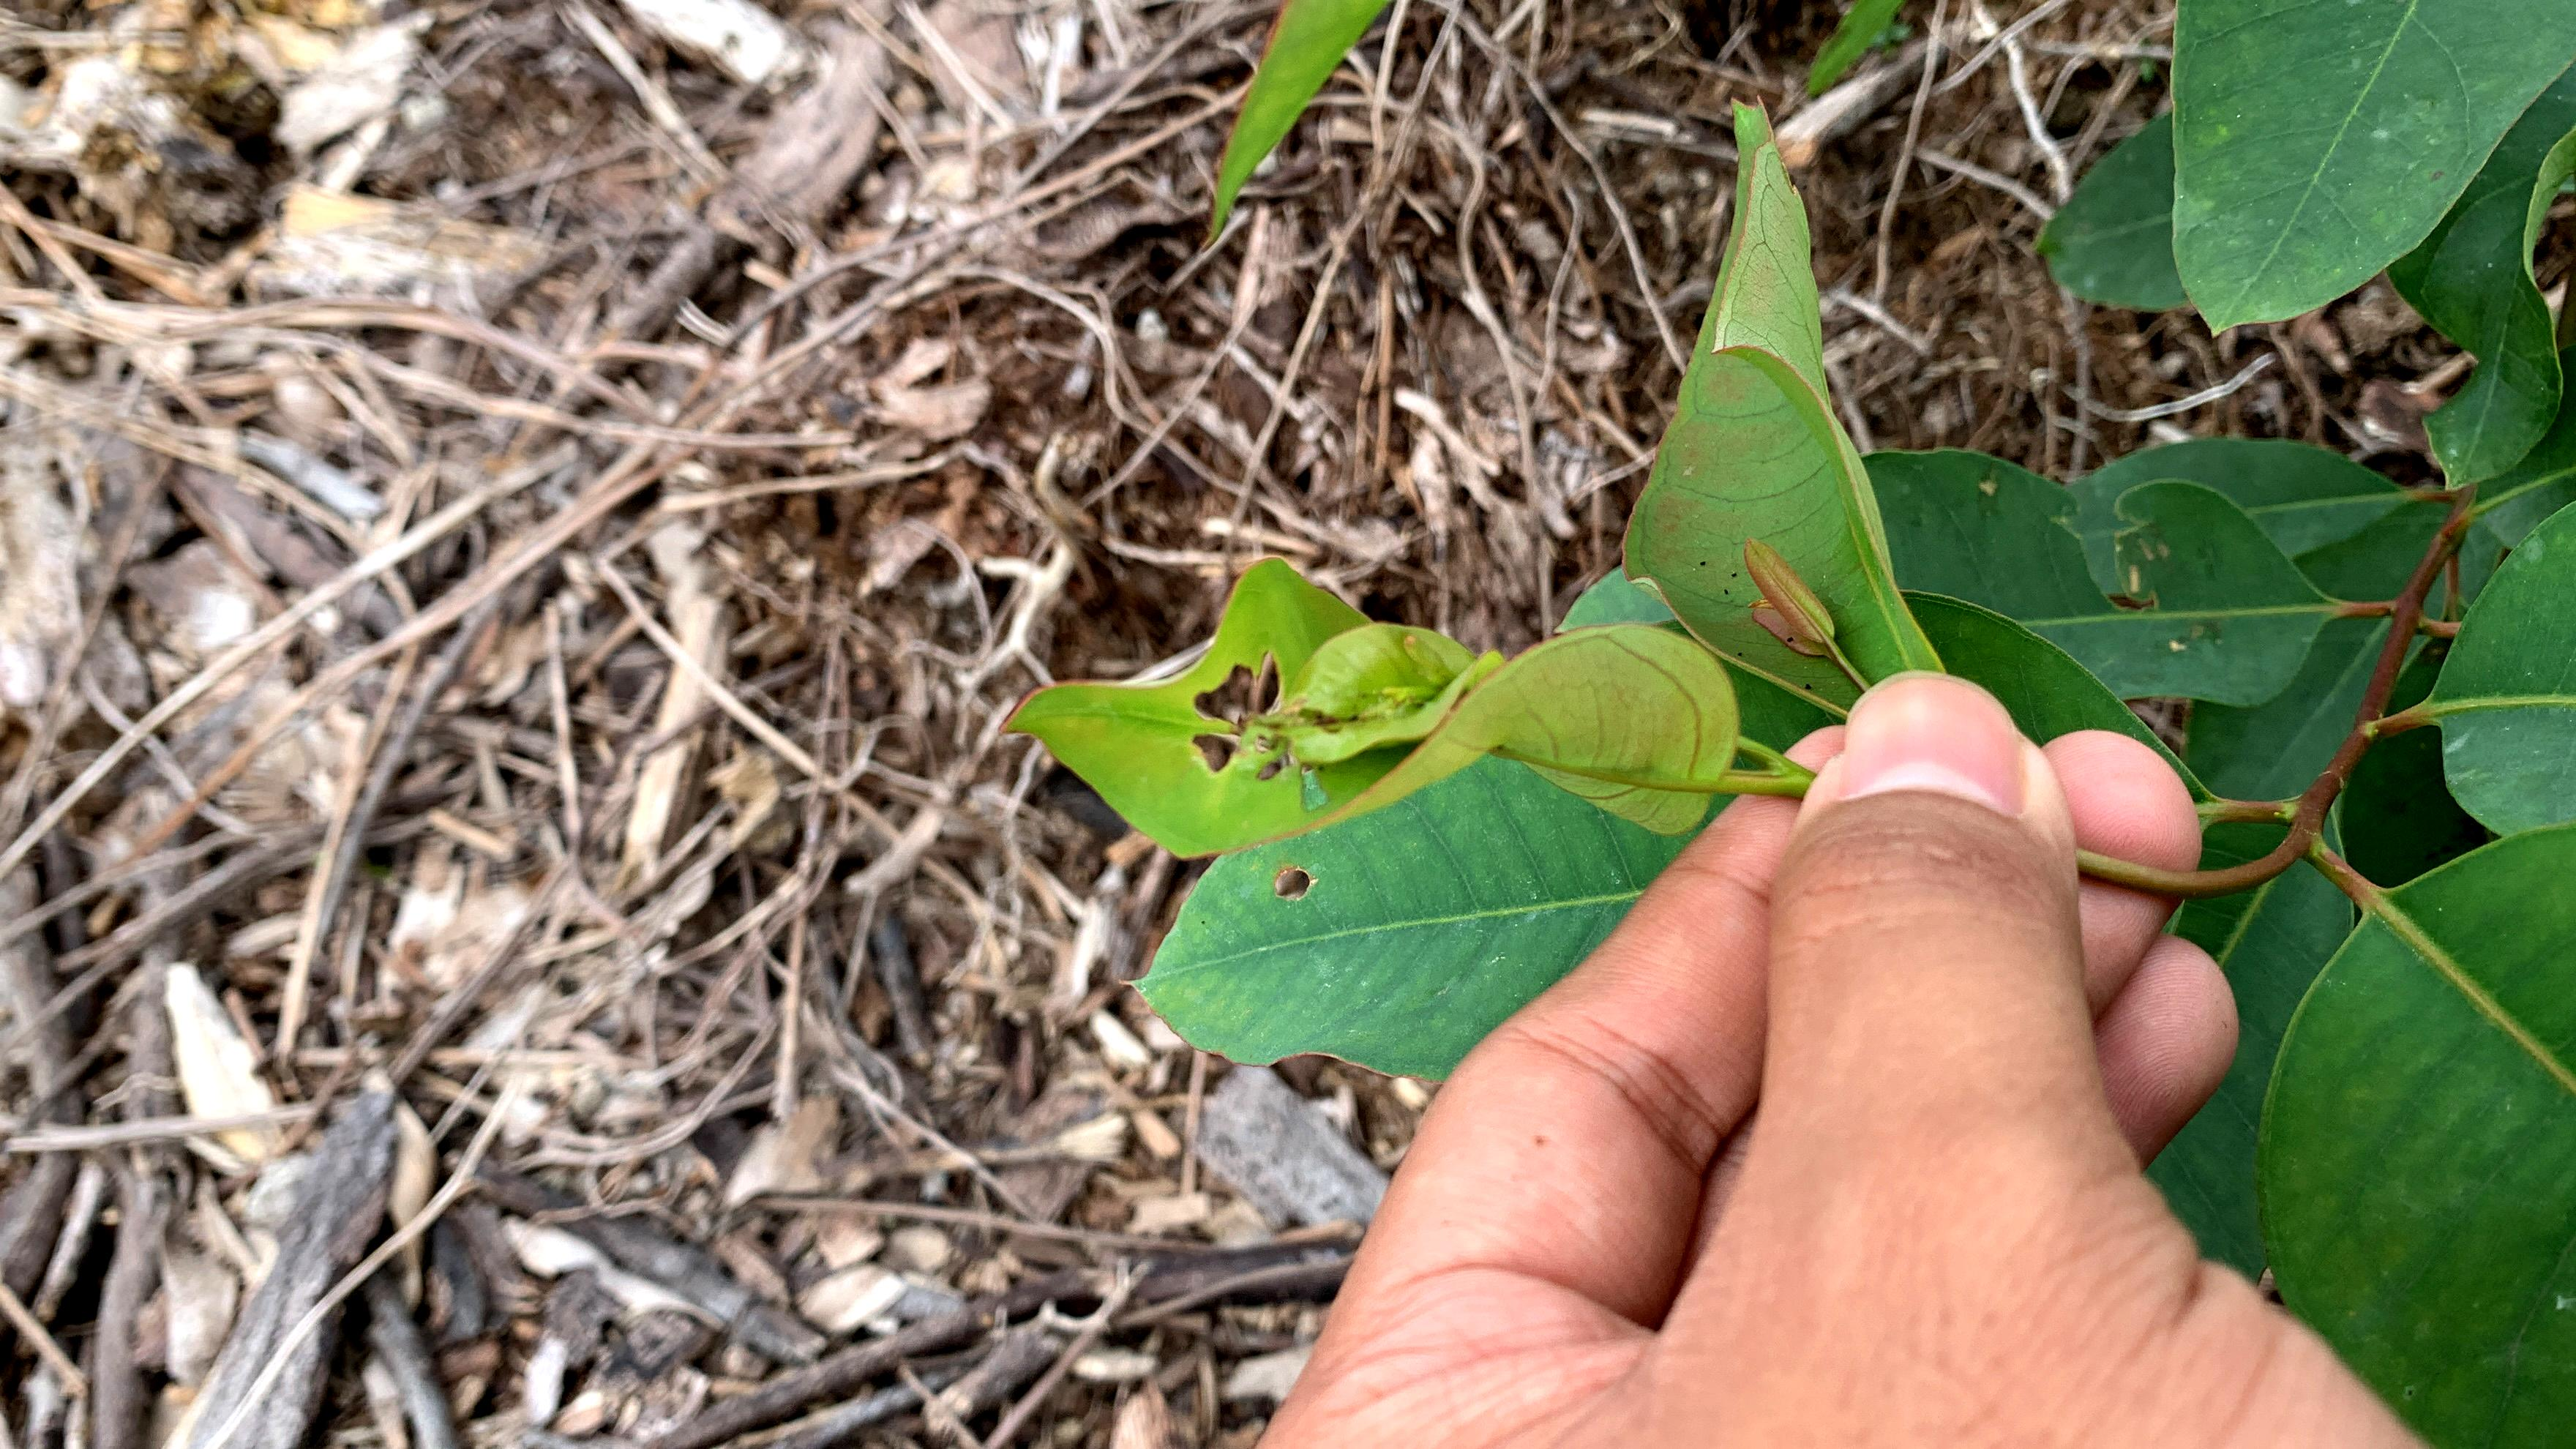Leaf Roller - Leaf: (1030, 615, 1746, 814)
